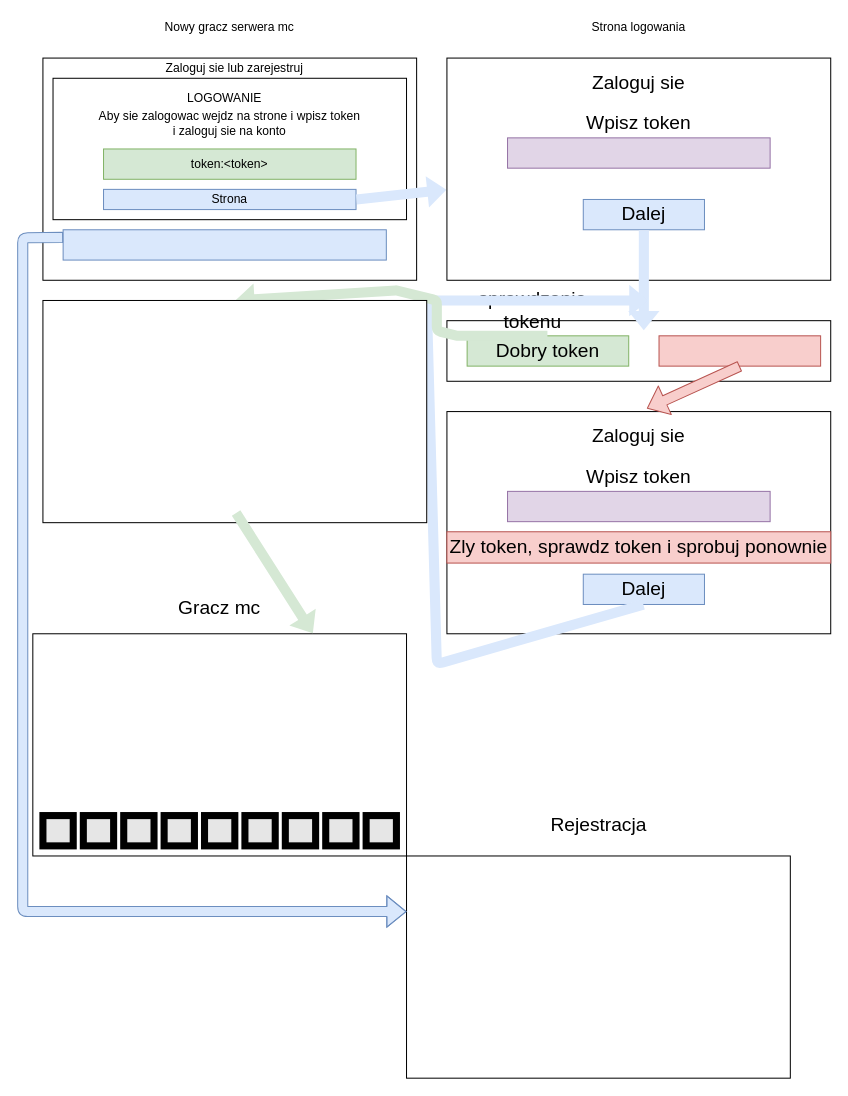
Image size: 848x1096. Some labels were removed from this diagram. The centre of each missing label's shape, as x and y in pixels:
Zalogowano, mozesz teraz wrocic do minecraft! Mozesz zamknac to okno lub karte!: the point at 234,411
Zarejestruj sie: the point at 224,244
Zly token: the point at 739,350
